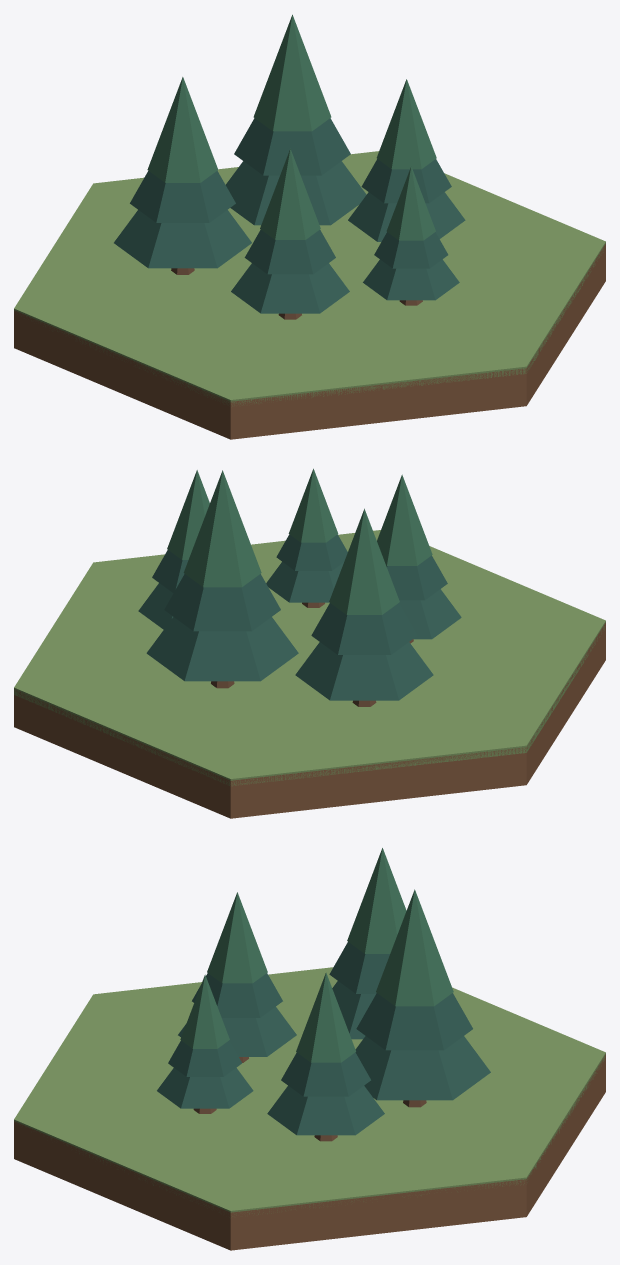
File: pineWoodland.glb
3 renders of one model, top to bottom at view 1: azimuth 30°, elevation 25°; view 2: azimuth 150°, elevation 25°; view 3: azimuth 270°, elevation 25°, orthographic.
Parts seen in each view (by area): view 1: Cone.022, Cone.021, Cone.024, Cone.030, Cone.028, Cone.029, Cone.036, Cone.026, Cone.025, Cone.038, Cone.034, Cone.037 (+5 smaller); view 2: Cone.022, Cone.021, Cone.028, Cone.024, Cone.030, Cone.029, Cone.026, Cone.025, Cone.038, Cone.040, Cone.042, Cone.041 (+5 smaller); view 3: Cone.022, Cone.021, Cone.028, Cone.030, Cone.029, Cone.032, Cone.026, Cone.038, Cone.034, Cone.033, Cone.040, Cone.036 (+5 smaller).
Part boxes in pixels (x1,y1,x2,y2): Cone.022: [14, 151, 605, 406]; Cone.021: [14, 243, 605, 439]; Cone.024: [114, 210, 251, 268]; Cone.030: [253, 14, 331, 131]; Cone.028: [226, 161, 366, 225]; Cone.029: [234, 118, 350, 175]; Cone.036: [231, 263, 349, 313]; Cone.026: [147, 77, 218, 182]; Cone.025: [130, 170, 235, 222]; Cone.038: [260, 149, 320, 239]; Cone.034: [376, 79, 436, 169]; Cone.037: [244, 230, 335, 274]; Cone.022: [14, 530, 605, 786]; Cone.021: [14, 622, 605, 818]; Cone.028: [146, 617, 298, 681]; Cone.024: [295, 642, 433, 700]; Cone.030: [183, 470, 261, 587]; Cone.029: [164, 574, 280, 631]; Cone.026: [329, 508, 399, 614]; Cone.025: [311, 603, 417, 654]; Cone.038: [377, 474, 432, 565]; Cone.040: [266, 561, 343, 602]; Cone.042: [288, 468, 338, 542]; Cone.041: [276, 534, 347, 570]; Cone.022: [14, 967, 605, 1217]; Cone.021: [14, 1054, 605, 1250]; Cone.028: [355, 1036, 490, 1100]; Cone.030: [376, 889, 453, 1006]; Cone.029: [356, 993, 472, 1050]; Cone.032: [267, 1086, 384, 1135]; Cone.026: [347, 848, 406, 953]; Cone.038: [207, 892, 267, 983]; Cone.034: [296, 972, 355, 1062]; Cone.033: [281, 1052, 370, 1096]; Cone.040: [157, 1068, 253, 1108]; Cone.036: [178, 1006, 296, 1056].
Size of the model in its own units: 3.67 by 1.73 by 3.67.
